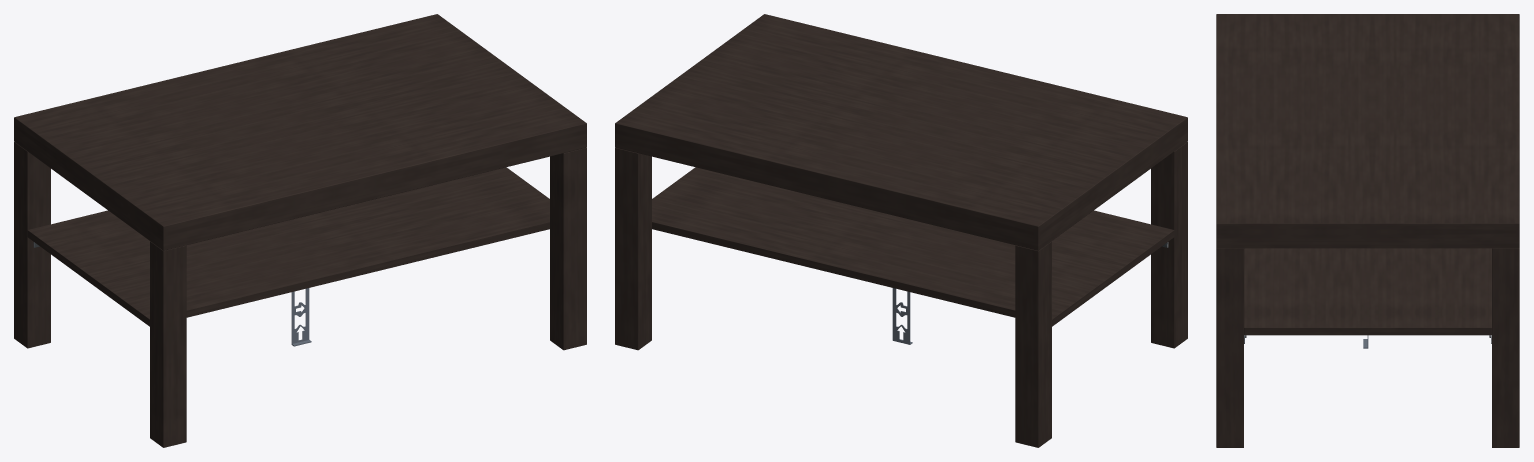
Rendered from lack.glb.
The picture shows the model from 3 angles, left to right: view 1: azimuth 30°, elevation 25°; view 2: azimuth 150°, elevation 25°; view 3: azimuth 270°, elevation 25°; orthographic projection.
Parts seen in each view (by area): view 1: top-1, shelf-1, leg-3, leg-4, leg-1, template-1; view 2: top-1, shelf-1, leg-1, leg-2, leg-3, template-1; view 3: top-1, shelf-1, leg-2, leg-4.
Part boxes in pixels (bbox=[...]): top-1: bbox=[14, 14, 586, 250]; shelf-1: bbox=[27, 167, 549, 326]; leg-3: bbox=[150, 241, 186, 447]; leg-4: bbox=[550, 147, 586, 350]; leg-1: bbox=[14, 142, 50, 348]; template-1: bbox=[291, 288, 311, 346]; top-1: bbox=[615, 14, 1187, 250]; shelf-1: bbox=[652, 167, 1174, 326]; leg-1: bbox=[1015, 241, 1051, 447]; leg-2: bbox=[615, 147, 651, 350]; leg-3: bbox=[1151, 142, 1187, 348]; template-1: bbox=[892, 288, 912, 344]; top-1: bbox=[1216, 14, 1519, 248]; shelf-1: bbox=[1244, 248, 1491, 335]; leg-2: bbox=[1492, 248, 1519, 447]; leg-4: bbox=[1216, 248, 1243, 447].
Bounding box in the file's own units: 0.9 × 0.452 × 0.55.
2 materials, 2 textured.
